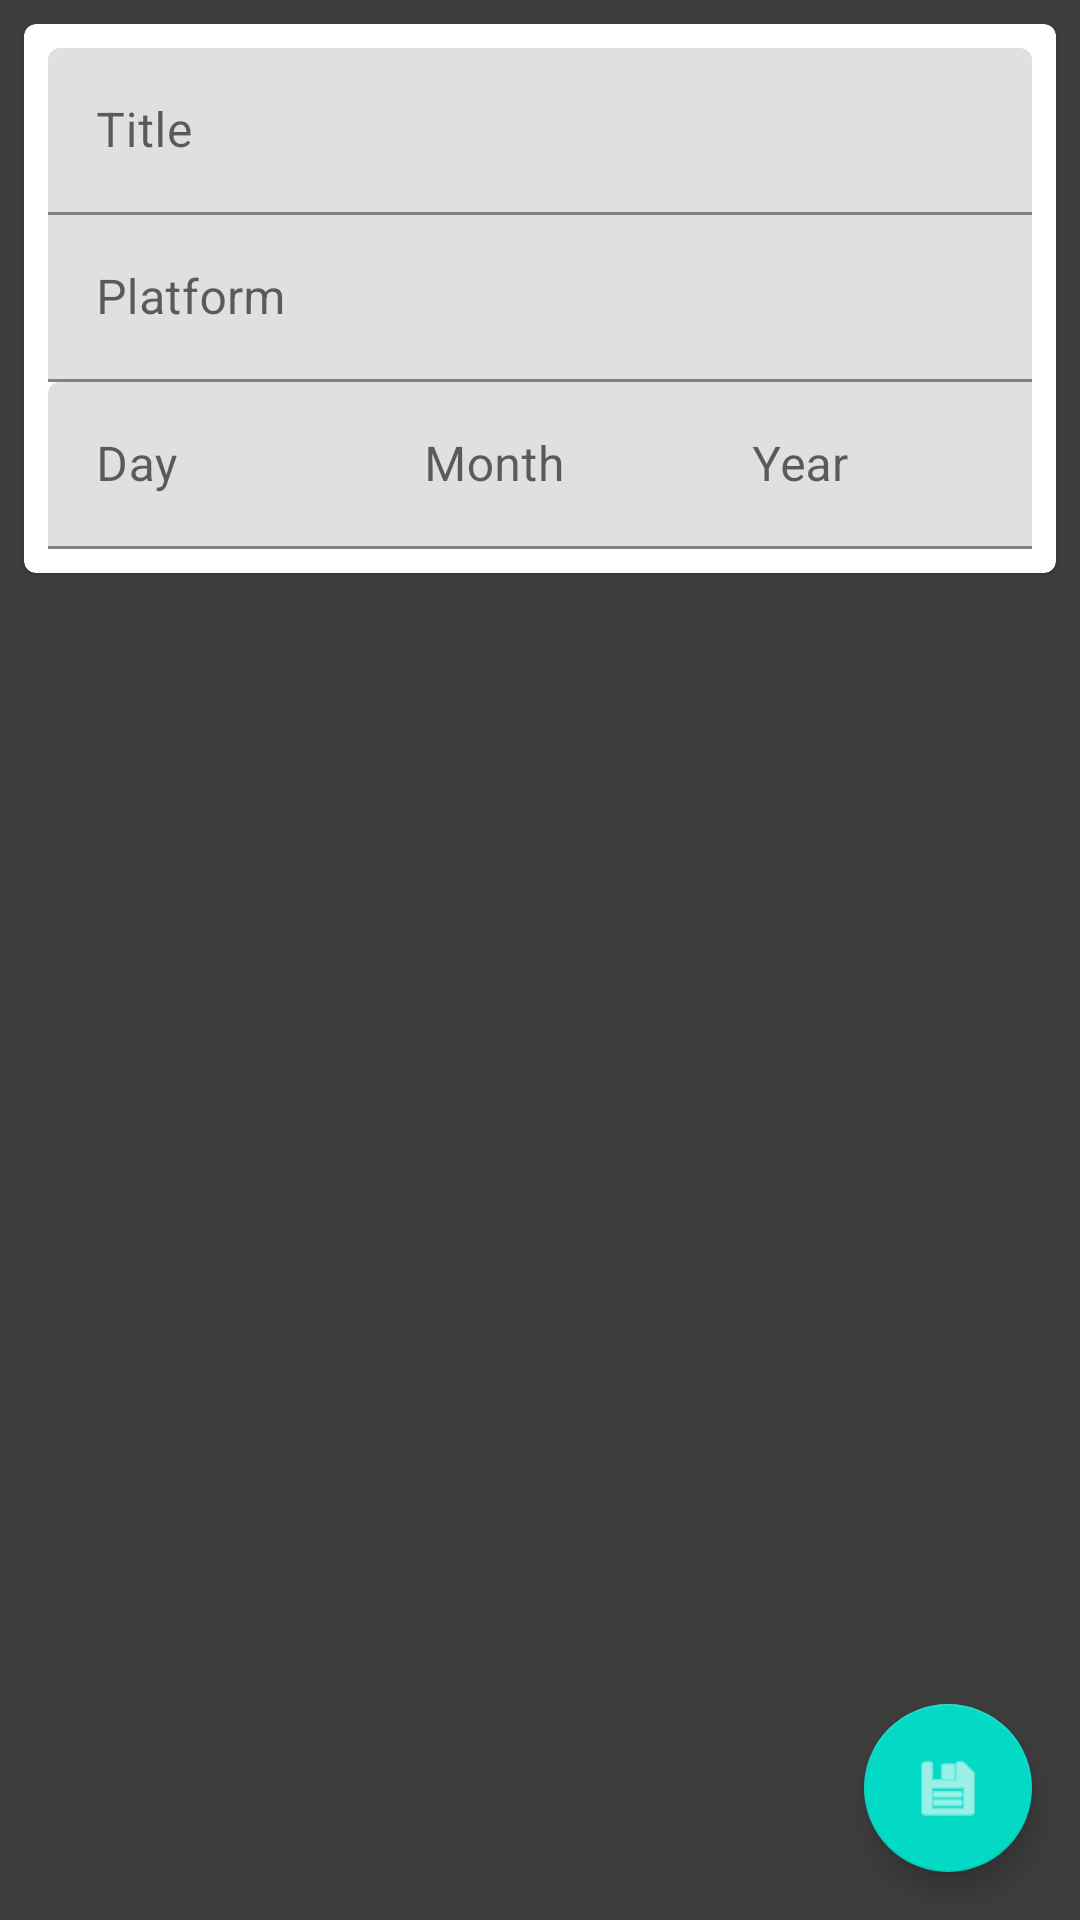

Screen size 1080×1920. Icon name, then its center in pixels as point (x, y):
save game: point (948, 1788)
